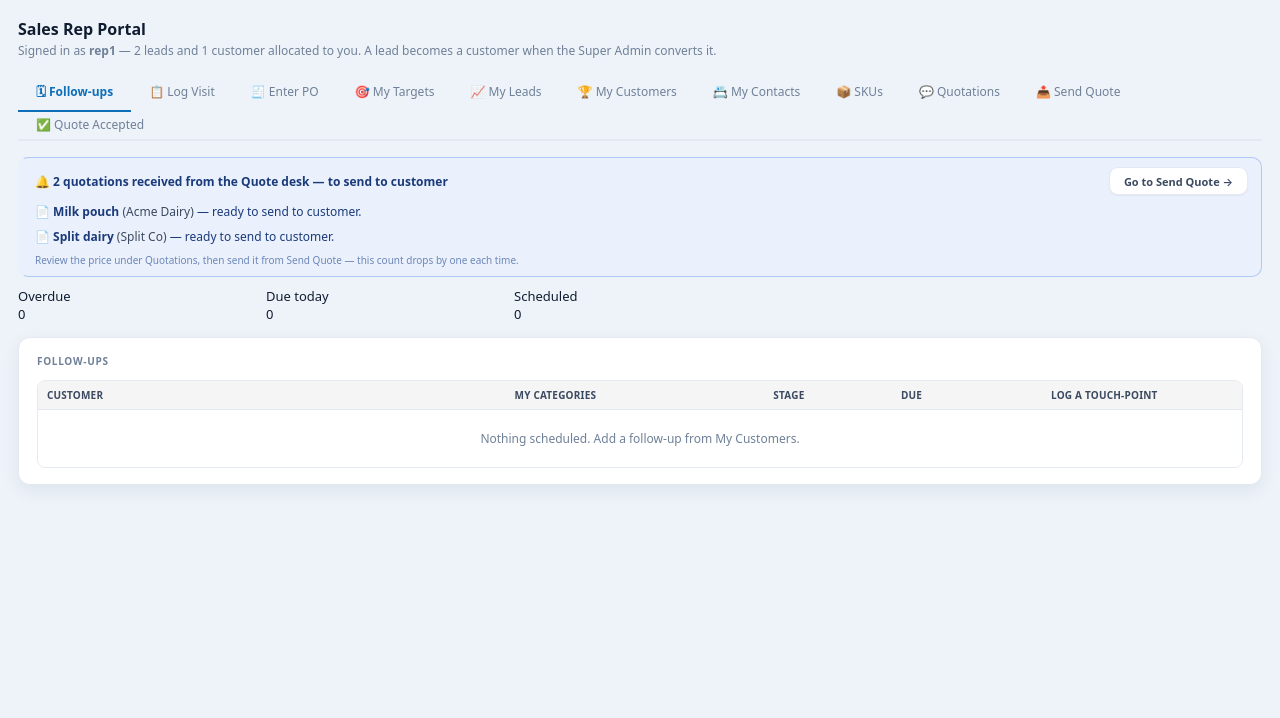
Scenario: QT3 — the Quotations tab › green for sent, red for to be sent, the SKU's own location, real groups only, each rep its own SKUs
The width and height of the screenshot is (1280, 718).
Click the text "💬 Quotations": coordinates (959, 92) [919,83,1000,100]
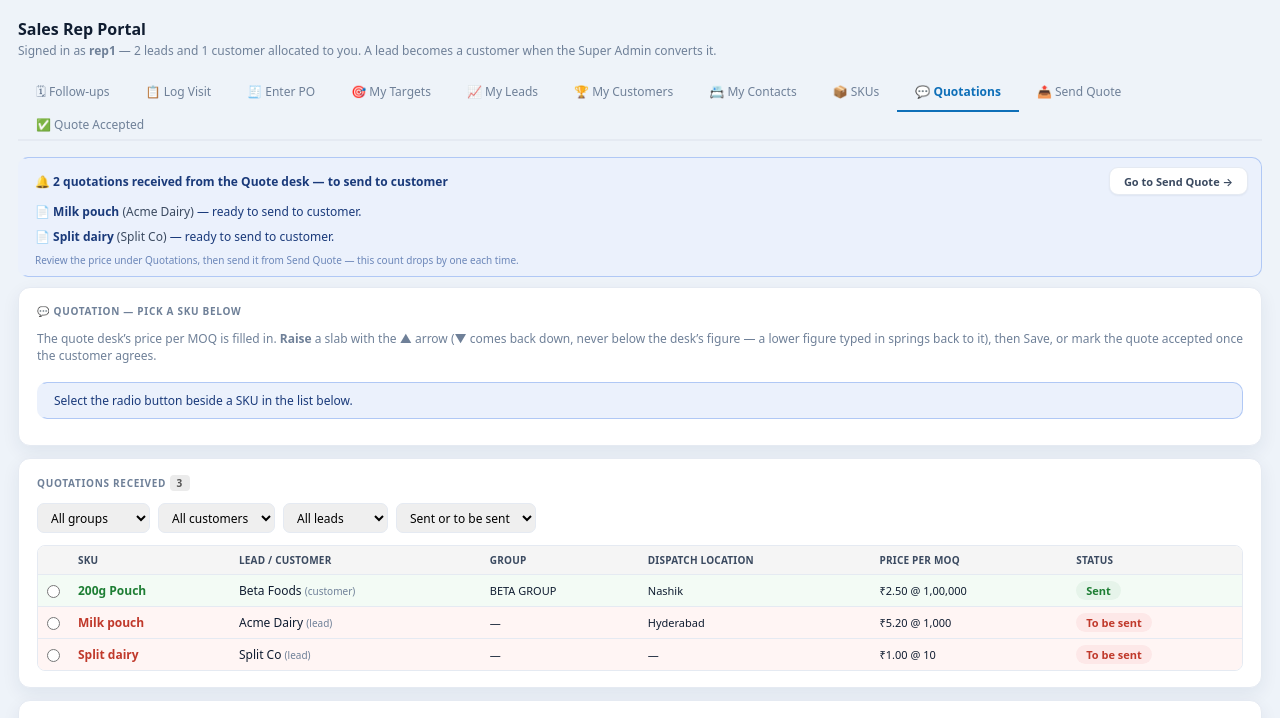
Expected: the text "Nashik" is shown, [639,574,871,606]
Expected: the cell named "SKU Split dairy" is shown, [69,638,230,670]
